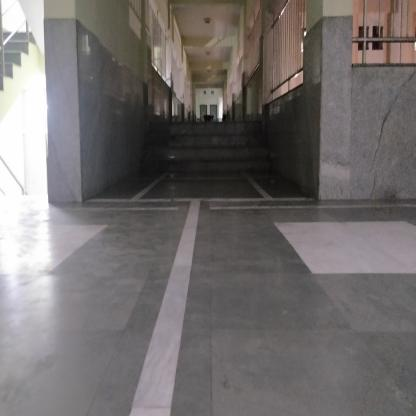stairs: (151, 122, 264, 168)
